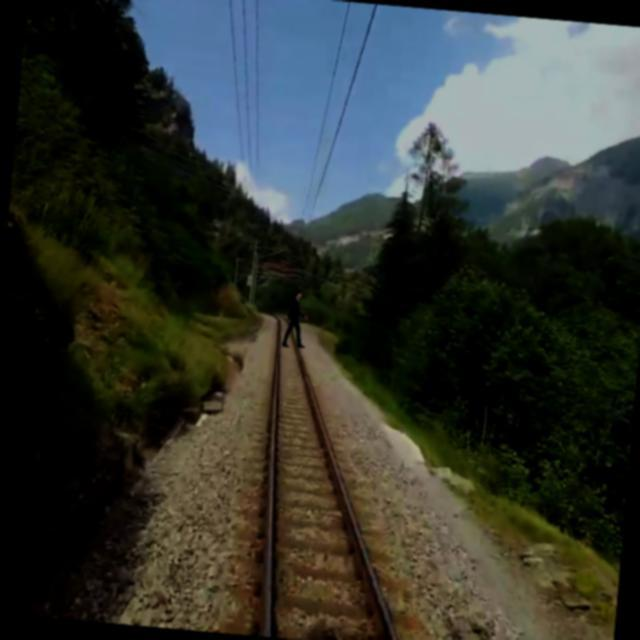rail: (231, 312, 424, 640)
